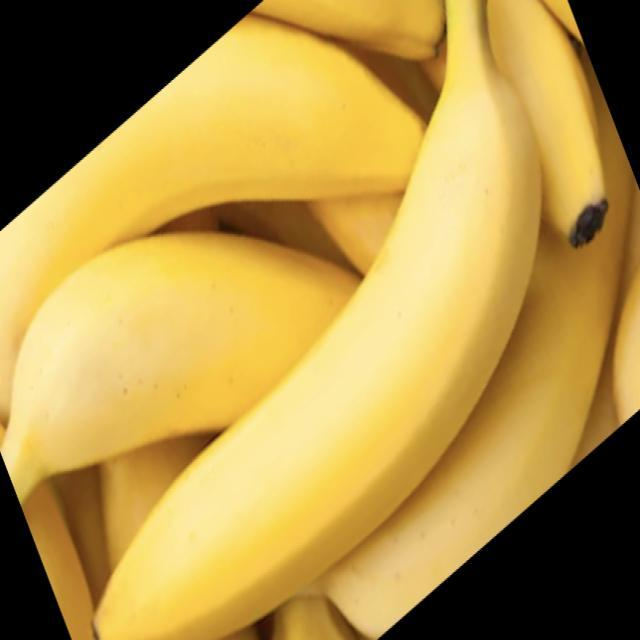Banana: (1, 0, 638, 639)
